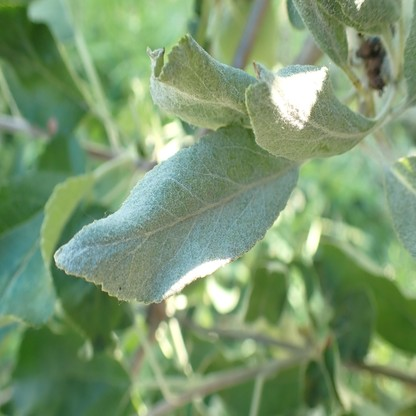powder: (54, 125, 300, 303), (246, 61, 374, 159), (148, 34, 256, 128), (293, 0, 349, 65), (317, 0, 402, 35), (386, 156, 416, 253), (405, 0, 416, 106)
